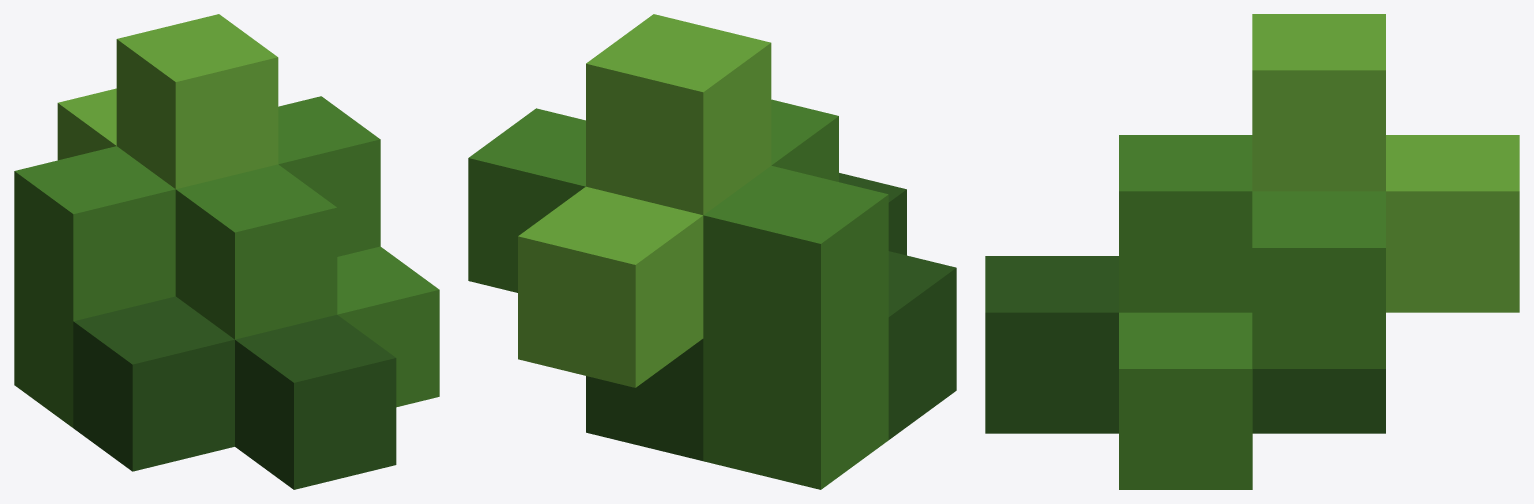
The picture shows the model from 3 angles, left to right: view 1: azimuth 30°, elevation 25°; view 2: azimuth 150°, elevation 25°; view 3: azimuth 270°, elevation 25°; orthographic projection. The views are drawn at different scales.
Visible parts, largest first — view 1: grass_tuft_small_03; view 2: grass_tuft_small_03; view 3: grass_tuft_small_03.
Part boxes in pixels (bbox=[...]): grass_tuft_small_03: bbox=[14, 14, 439, 489]; grass_tuft_small_03: bbox=[468, 14, 956, 489]; grass_tuft_small_03: bbox=[985, 14, 1519, 489].
Size of the model in its own units: 0.3 by 0.3 by 0.4.
Materials: 1 (1 with a texture image).
